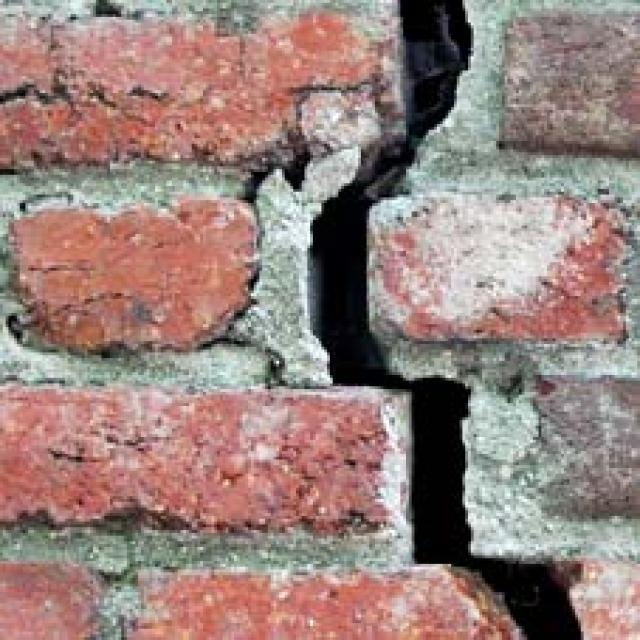Crack: (256, 0, 638, 640)
